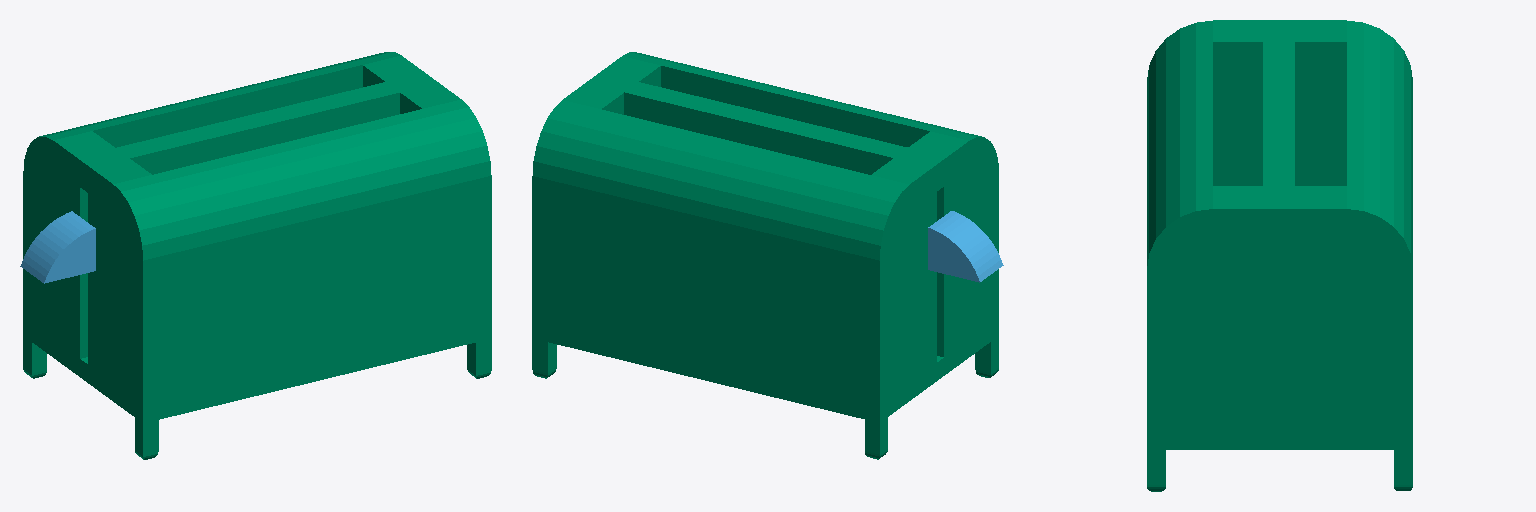
URDF robot description (partnet_7c54a2d4c64fe680ab2f295591850d41):
<?xml version="1.0" ?>
<robot name="partnet_7c54a2d4c64fe680ab2f295591850d41">
	<link name="base"/>
	<link name="link_0">
		<visual name="slider-1">
			<origin xyz="0 0 0"/>
			<geometry>
				<mesh filename="textured_objs/original-1.obj"/>
			</geometry>
		</visual>
		<collision>
			<origin xyz="0 0 0"/>
			<geometry>
				<mesh filename="textured_objs/original-1.obj"/>
			</geometry>
		</collision>
	</link>
	<joint name="joint_0" type="prismatic">
		<origin xyz="0 0 0"/>
		<axis xyz="0 -1 0"/>
		<child link="link_0"/>
		<parent link="link_1"/>
		<limit lower="-0.14800000000000013" upper="0.41999999999999993"/>
	</joint>
	<link name="link_1">
		<visual name="base_body-2">
			<origin xyz="0 0 0"/>
			<geometry>
				<mesh filename="textured_objs/original-2.obj"/>
			</geometry>
		</visual>
		<collision>
			<origin xyz="0 0 0"/>
			<geometry>
				<mesh filename="textured_objs/original-2.obj"/>
			</geometry>
		</collision>
	</link>
	<joint name="joint_1" type="fixed">
		<origin rpy="1.570796326794897 0 -1.570796326794897" xyz="0 0 0"/>
		<child link="link_1"/>
		<parent link="base"/>
	</joint>
</robot>

--- Render facts (derived) ---
The picture shows the robot from 3 angles, left to right: view 1: azimuth 30°, elevation 25°; view 2: azimuth 150°, elevation 25°; view 3: azimuth 270°, elevation 25°; orthographic projection.
Model partnet_7c54a2d4c64fe680ab2f295591850d41 with 3 links and 2 joints (1 prismatic, 1 fixed), rooted at base, posed all joints at 0.
Links seen in each view (by area): view 1: link_1, link_0; view 2: link_1, link_0; view 3: link_1.
Link boxes in pixels (x1,y1,x2,y2): link_1: [23, 52, 491, 459]; link_0: [20, 211, 95, 283]; link_1: [532, 52, 998, 459]; link_0: [928, 211, 1003, 282]; link_1: [1147, 20, 1412, 491].
Bounding box of the posed robot: 1.64 × 0.8529 × 1.01 m (x, y, z).
Meshes: 2 distinct files referenced, 2 mesh visuals loaded (2 OBJ).
